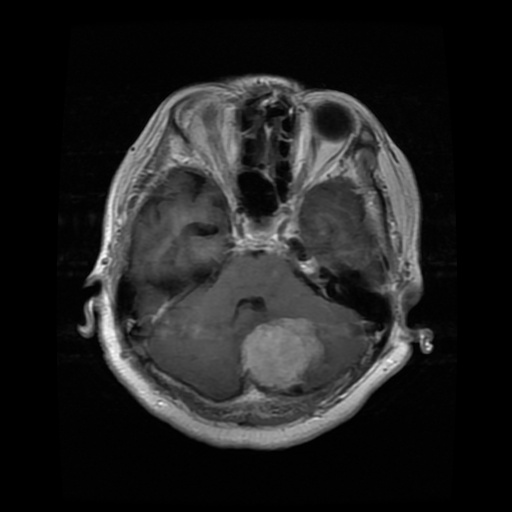meningioma: (239, 317, 324, 390)
